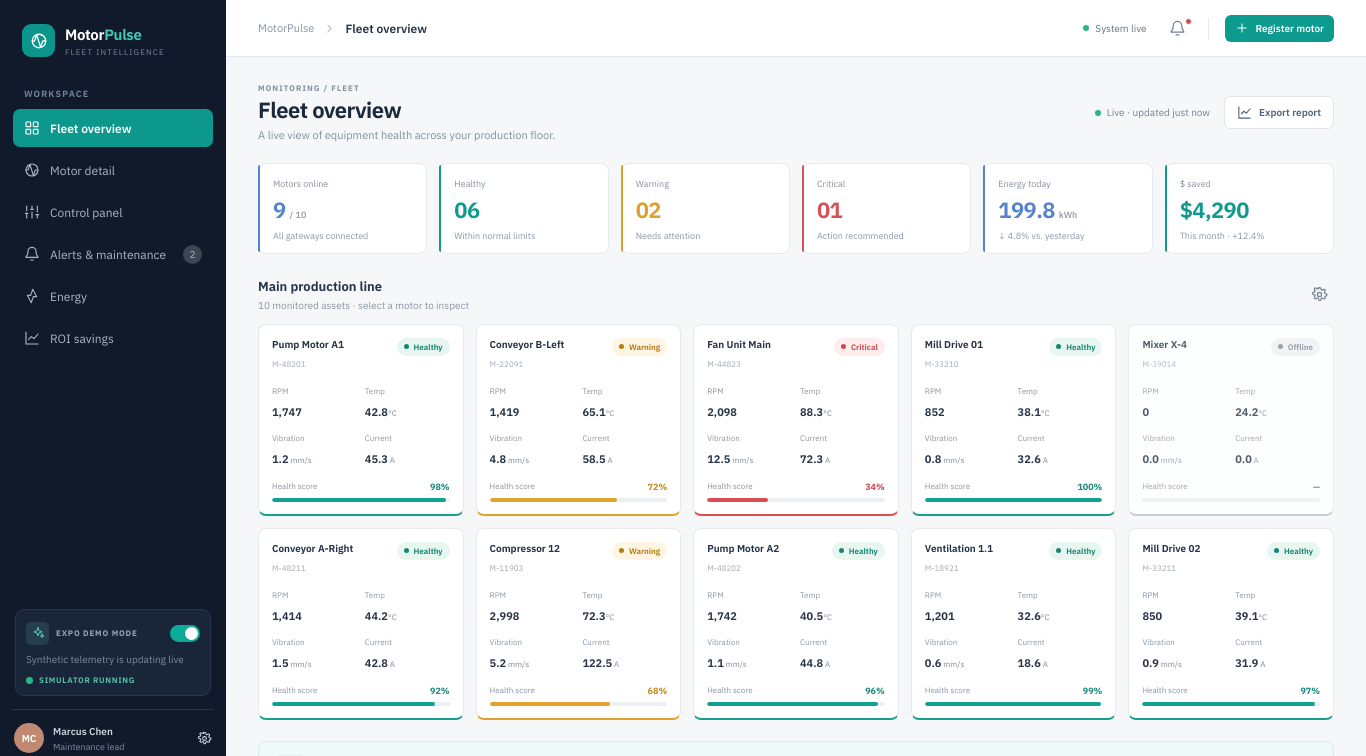
Test: shows a confirmation before sending a motor stop command
Click the button "Control panel" at [113, 212], box [13, 193, 213, 231]
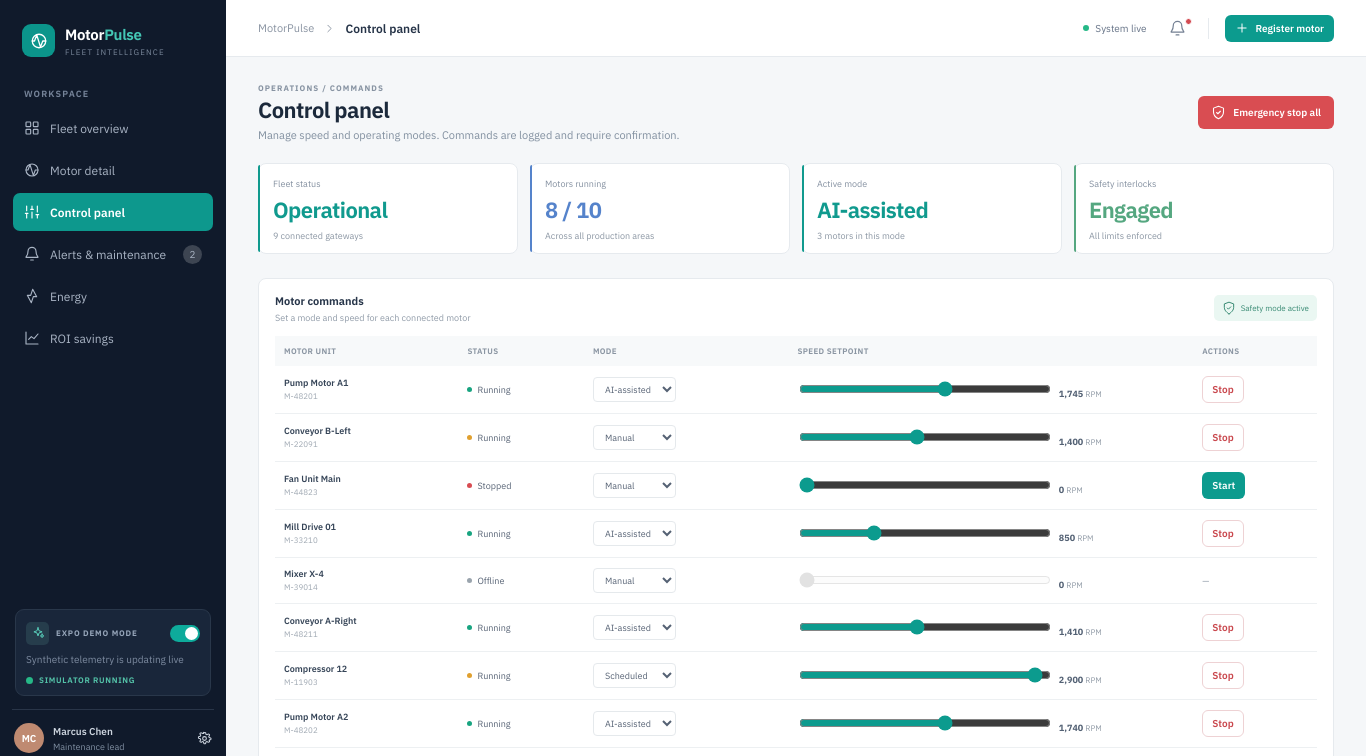
Click the button "Stop" in the row of "M-48201" at [1223, 389], box [1202, 376, 1244, 403]
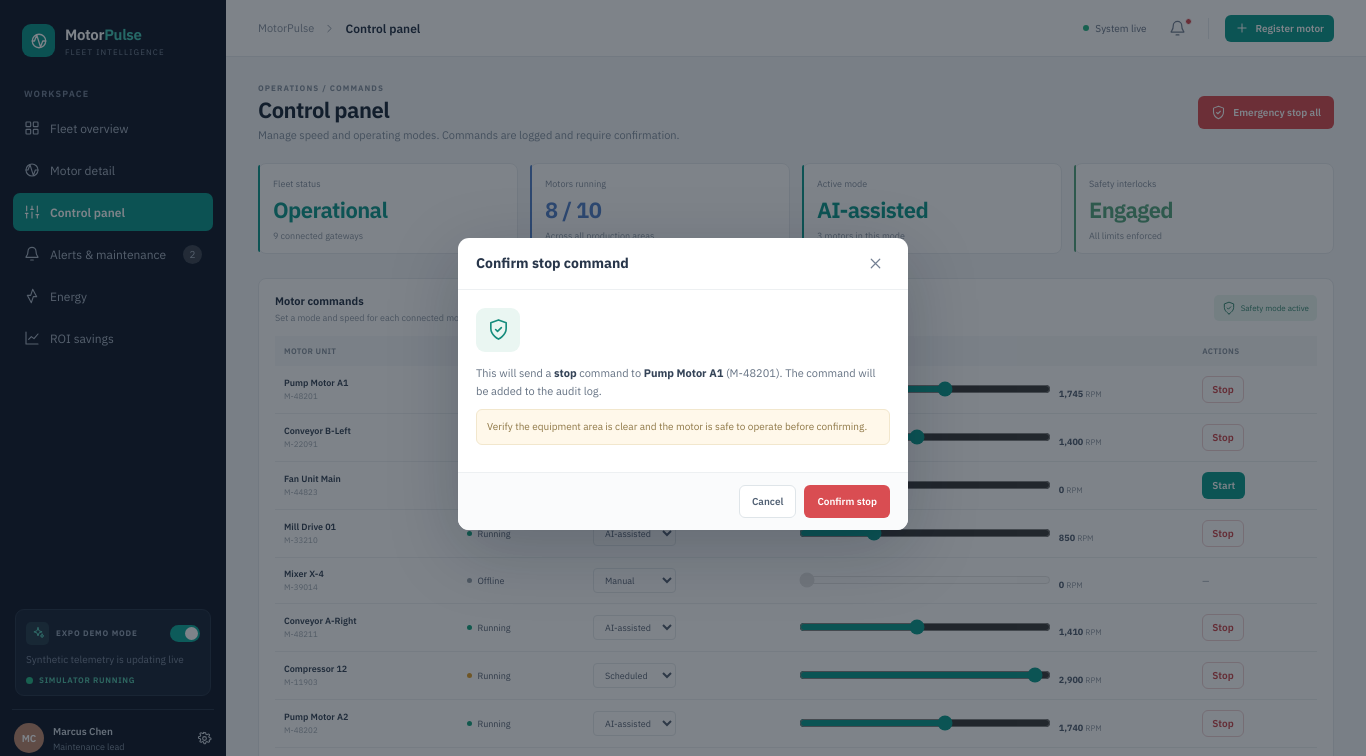
Expected: the dialog "Confirm stop command" is shown, [458, 238, 908, 530]
Expected: the text "Verify the equipment area is clear" is shown, [487, 420, 867, 433]
